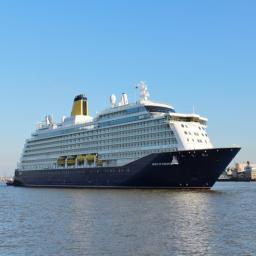cruises: (12, 79, 244, 193)
